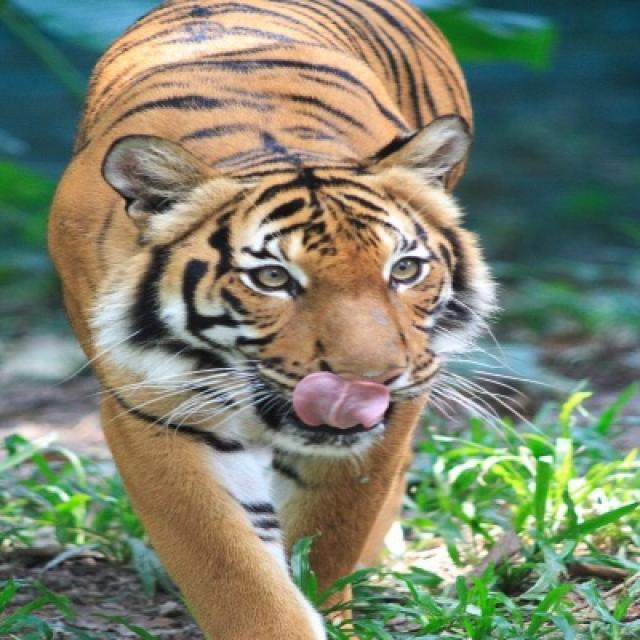Tiger: (48, 0, 490, 618)
